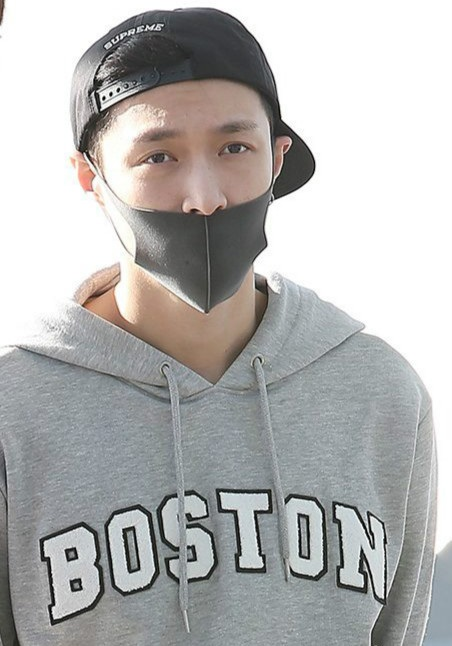face_mask: (107, 82, 271, 319)
